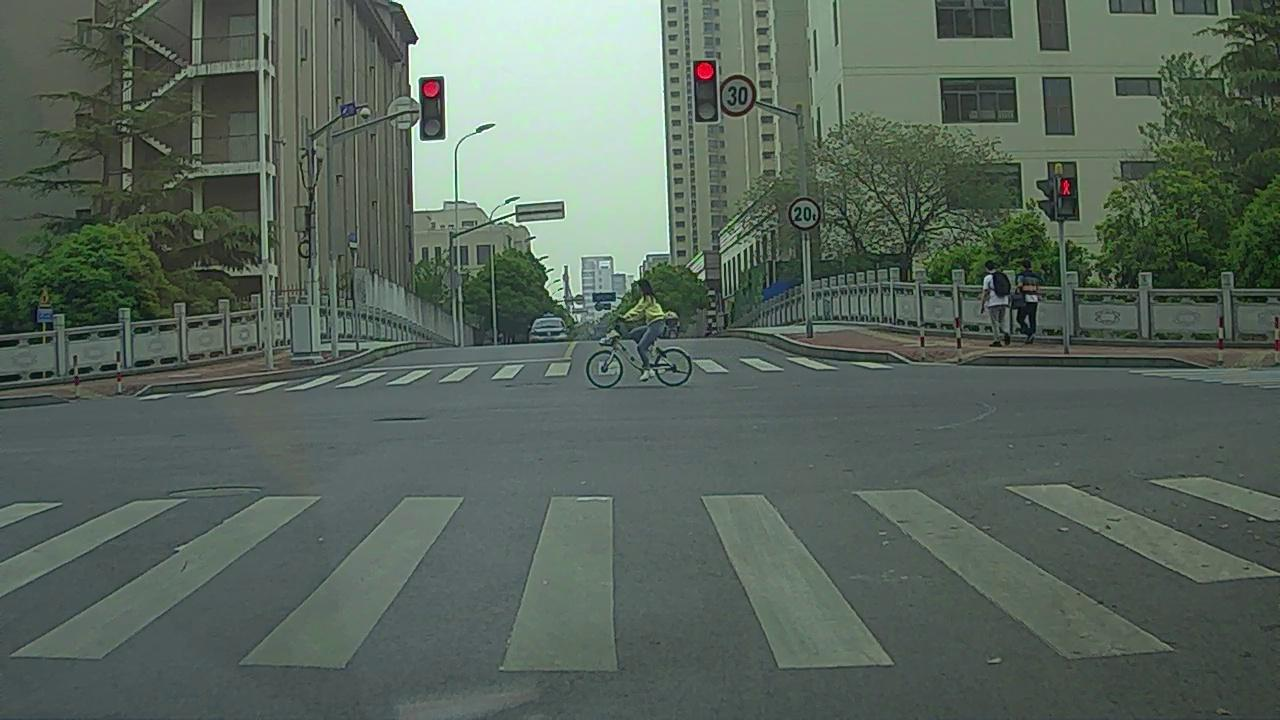traffic_light: (694, 59, 718, 124), (420, 79, 444, 142)
